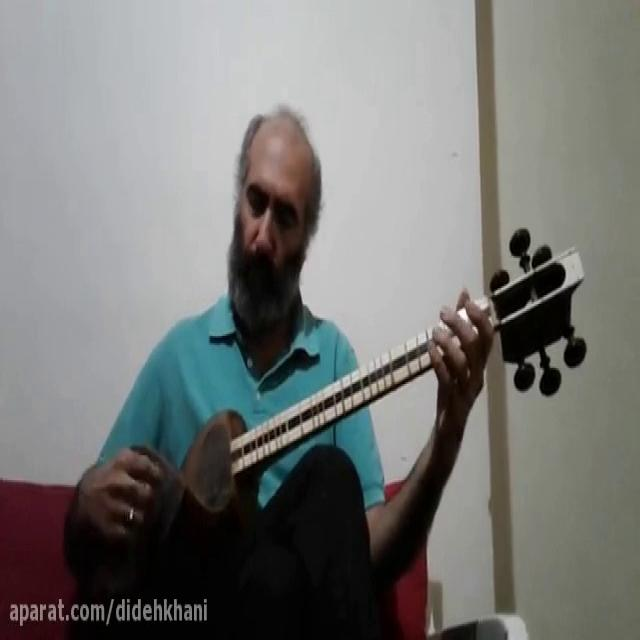Setar: (73, 221, 602, 622)
